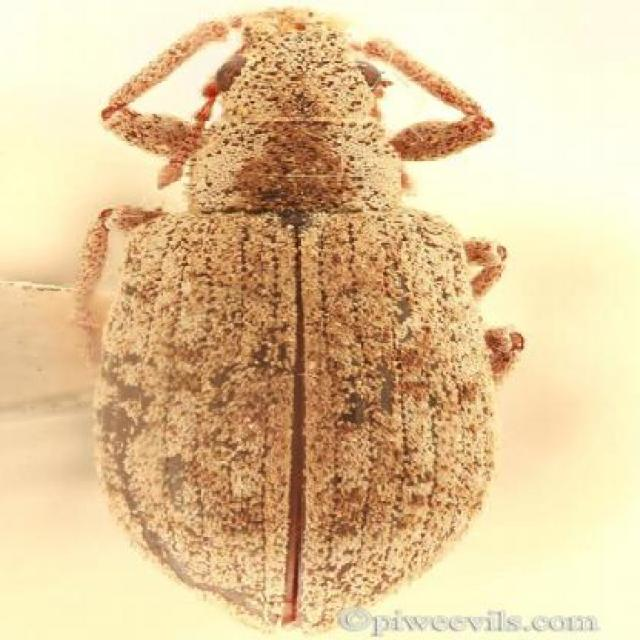rice-bug: (76, 6, 526, 631)
